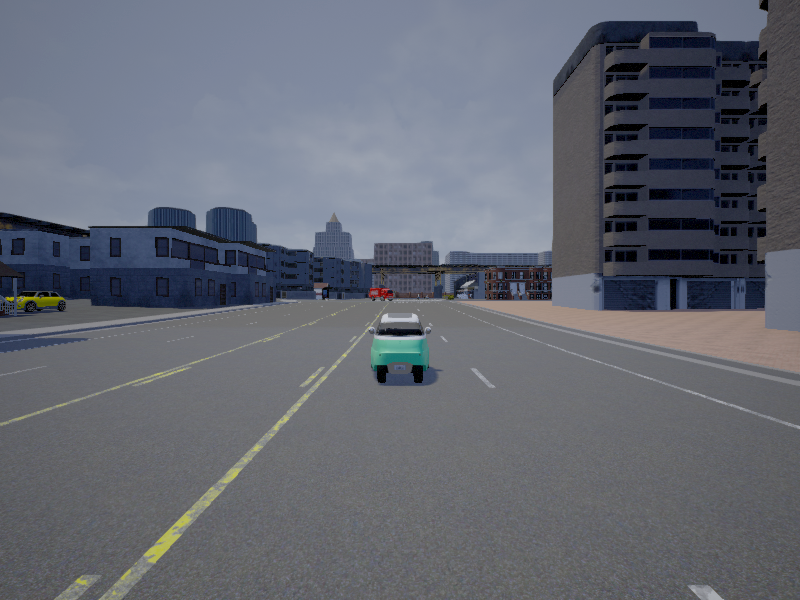Benign: (367, 313, 432, 384), (2, 290, 68, 315), (368, 287, 396, 303)
